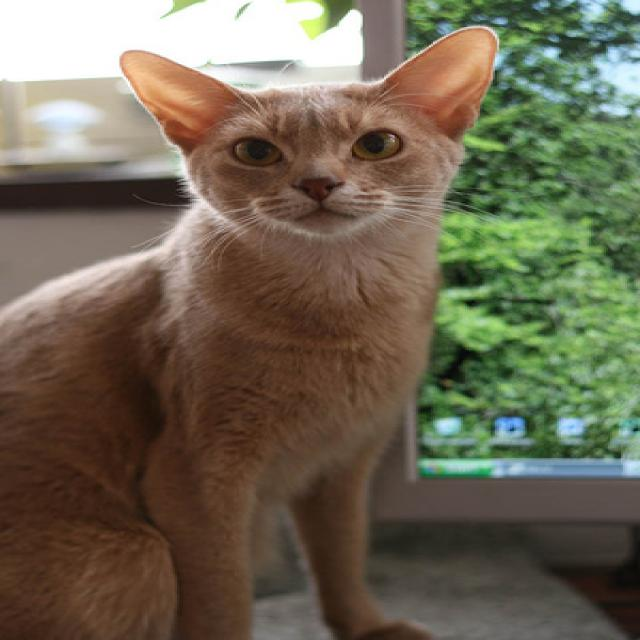Abyssinian: (0, 21, 508, 640)
